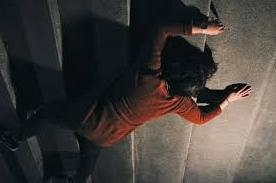fall: (75, 15, 261, 151)
